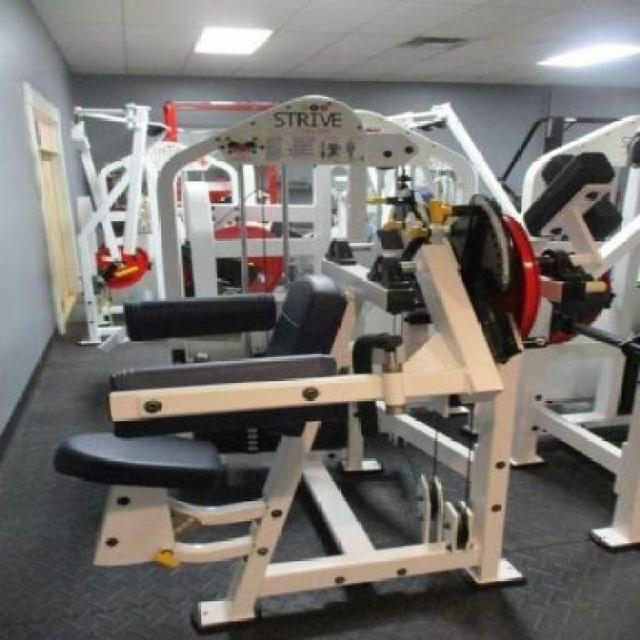lateral raises machine: (54, 189, 546, 637)
